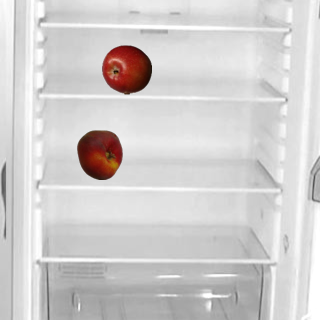Apple Braeburn: (101, 44, 151, 94)
Nectarine Flat: (74, 129, 124, 179)
